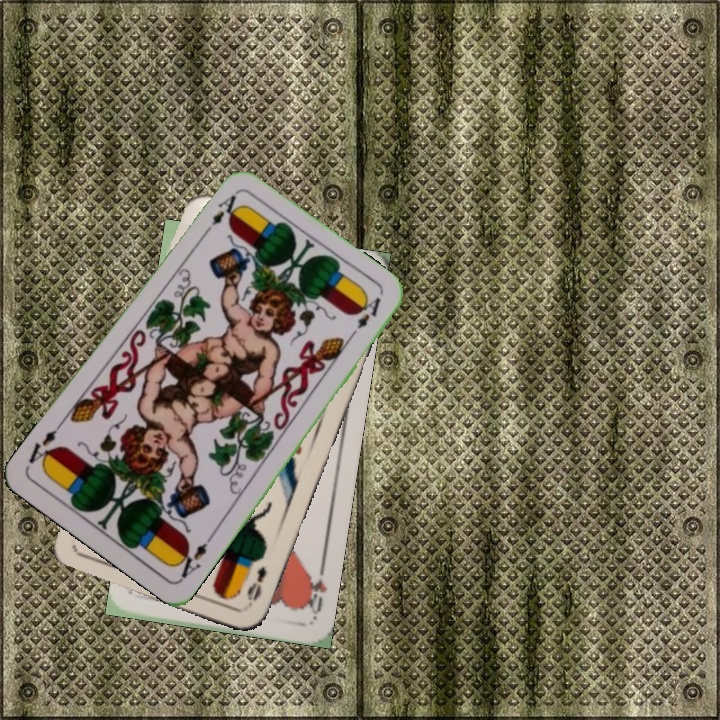EA: (170, 531, 216, 583), (199, 191, 239, 240)
EO: (241, 562, 270, 610)
HO: (300, 561, 329, 620)
